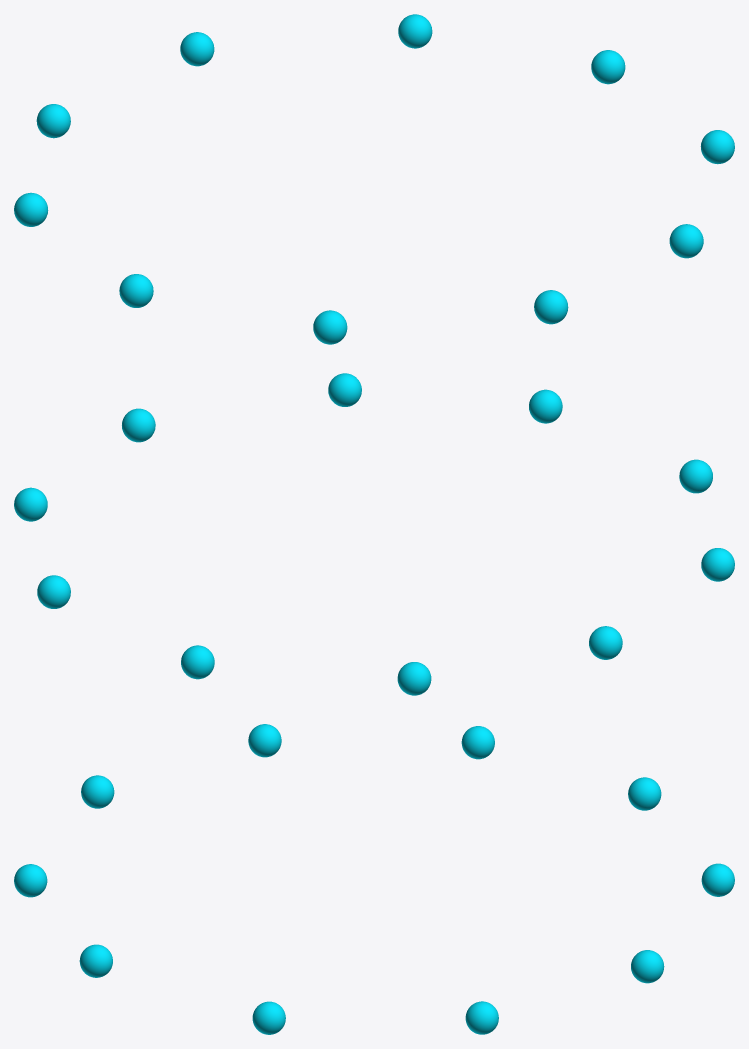
The picture shows the model from 3 angles, top to bottom: view 1: azimuth 30°, elevation 25°; view 2: azimuth 150°, elevation 25°; view 3: azimuth 270°, elevation 25°; orthographic projection. The views are drawn at different scales.
Visible parts, largest first — view 1: Sphere050; view 2: Sphere050; view 3: Sphere050.
Boxes of the visible parts, <box> form: Sphere050: <box>14,14,734,344</box>; Sphere050: <box>14,373,734,695</box>; Sphere050: <box>14,724,734,1034</box>.
Bounding box in the file's own units: 170 × 8.22 × 177.
